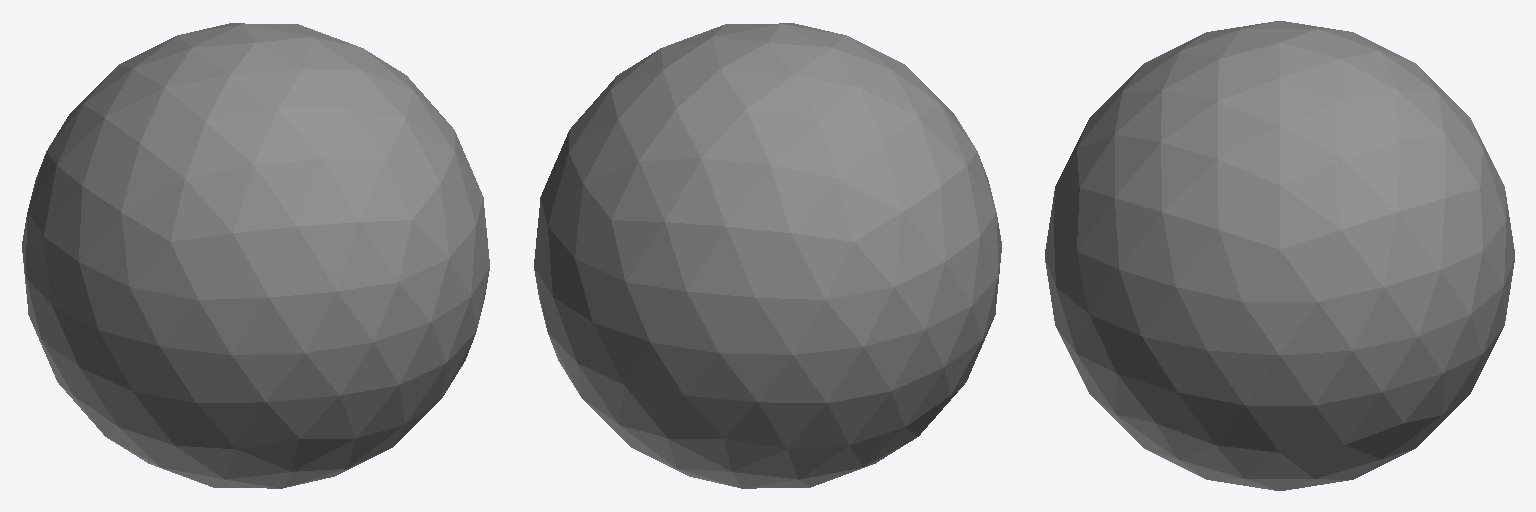
File: earth.obj
The picture shows the model from 3 angles: view 1: azimuth 30°, elevation 25°; view 2: azimuth 150°, elevation 25°; view 3: azimuth 270°, elevation 25°; orthographic projection.
Visible parts, largest first — view 1: GeoSphere001; view 2: GeoSphere001; view 3: GeoSphere001.
Part boxes in pixels (bbox=[...]): GeoSphere001: bbox=[22, 23, 489, 488]; GeoSphere001: bbox=[534, 23, 1001, 488]; GeoSphere001: bbox=[1045, 21, 1514, 490].
Size of the model in its own units: 12.74 by 12.74 by 12.74.